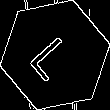L_NE: (27, 27, 83, 83)
